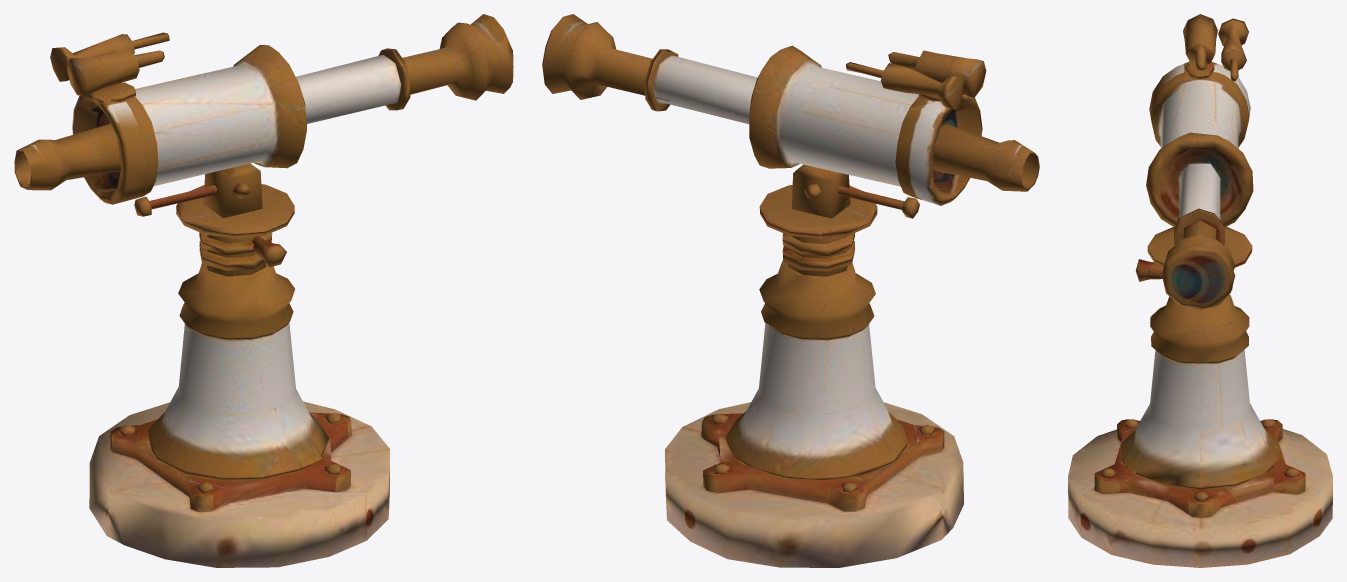
Rendered from lookout-telescope.glb.
3 renders of one model, left to right at view 1: azimuth 30°, elevation 25°; view 2: azimuth 150°, elevation 25°; view 3: azimuth 270°, elevation 25°, orthographic. The views are drawn at different scales.
Parts seen in each view (by area): view 1: lookout-telescope; view 2: lookout-telescope; view 3: lookout-telescope.
Part boxes in pixels (<box>): lookout-telescope: <box>14,14,513,567</box>; lookout-telescope: <box>542,14,1039,567</box>; lookout-telescope: <box>1068,14,1332,567</box>.
Size of the model in its own units: 1.42 by 1.4 by 0.7826.
1 material, 1 textured.
